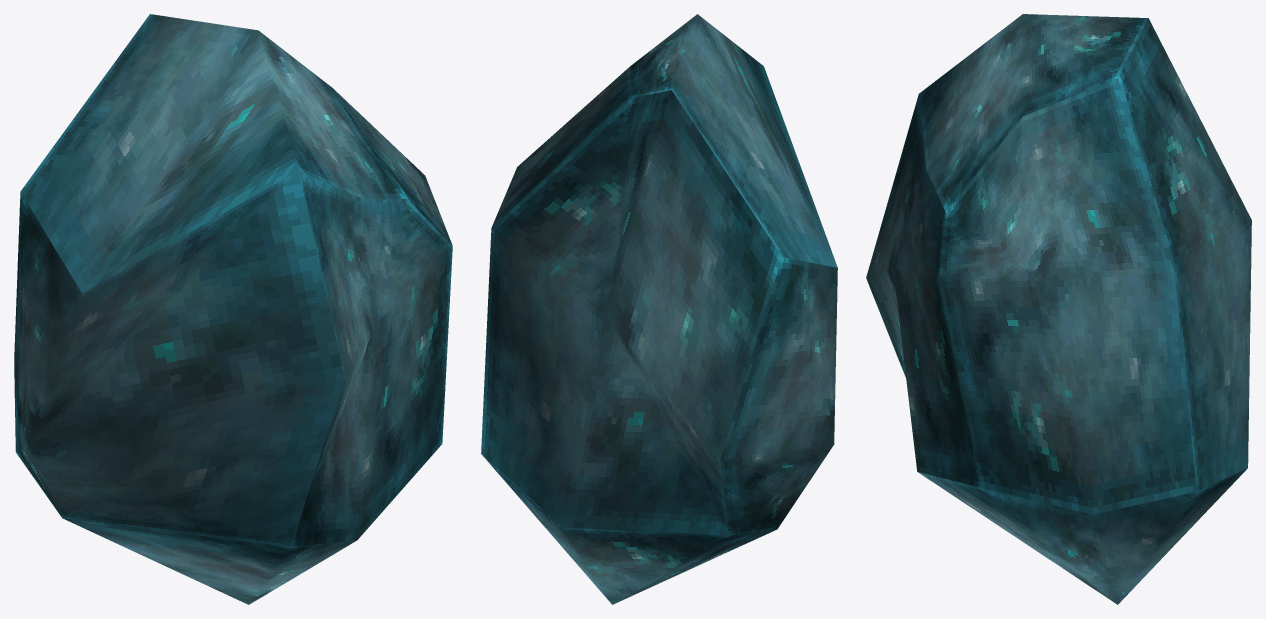
3 renders of one model, left to right at view 1: azimuth 30°, elevation 25°; view 2: azimuth 150°, elevation 25°; view 3: azimuth 270°, elevation 25°, orthographic. The views are drawn at different scales.
Parts seen in each view (by area): view 1: mn_el35-col; view 2: mn_el35-col; view 3: mn_el35-col.
Boxes of the visible parts, x1,y1,x2,y2 form: mn_el35-col: (14, 14, 452, 604); mn_el35-col: (481, 14, 837, 604); mn_el35-col: (866, 14, 1251, 604).
Bounding box in the file's own units: 0.4404 × 0.7058 × 0.4314.
Materials: 1 (1 with a texture image).
